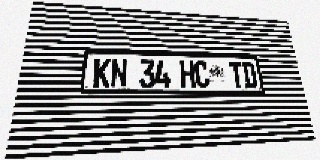3: (140, 59, 155, 88)
4: (155, 60, 171, 88)
C: (194, 61, 210, 88)
D: (241, 62, 258, 88)
H: (180, 60, 196, 88)
K: (93, 58, 111, 88)
N: (110, 58, 127, 88)
T: (229, 62, 245, 88)
